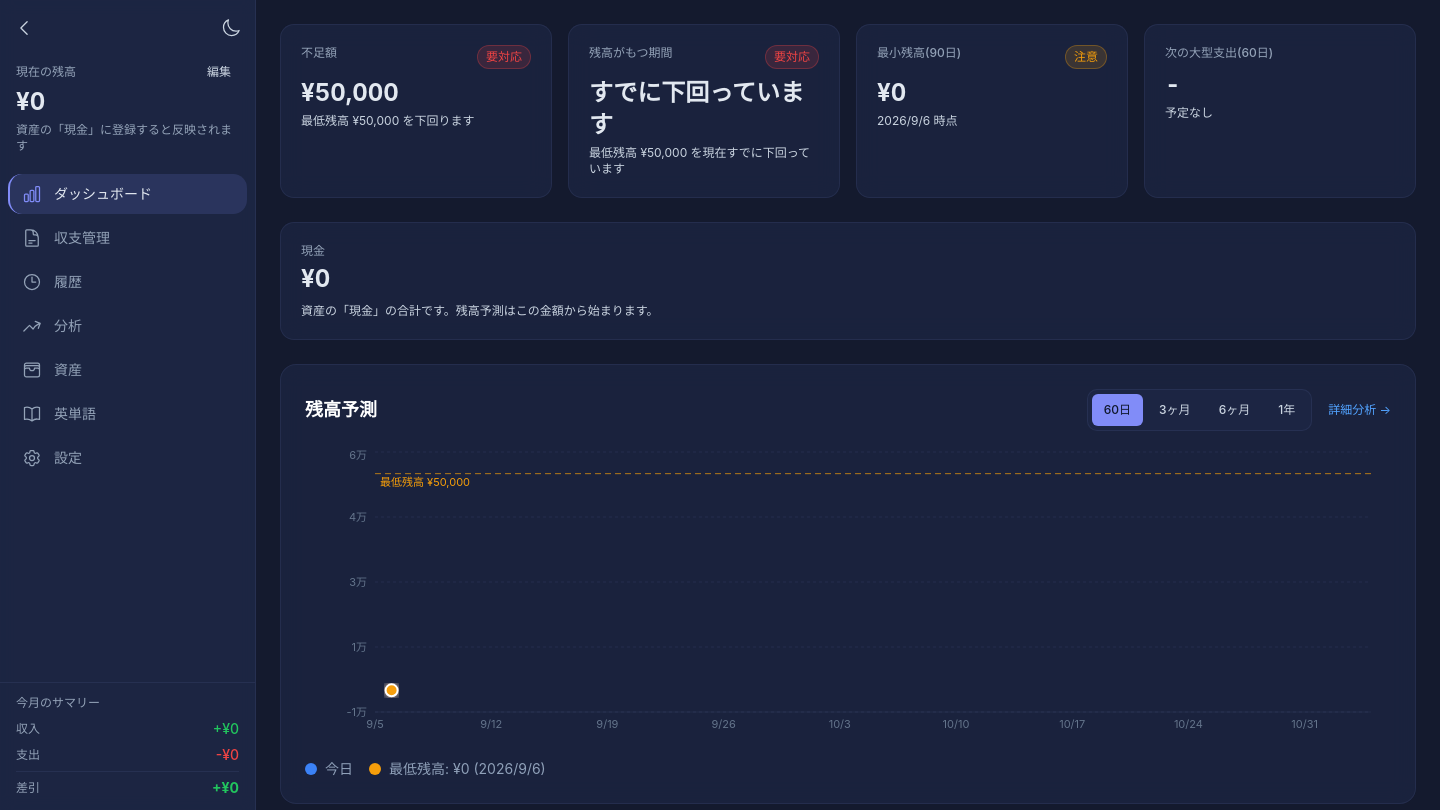
Test case: a screen whose chunk cannot be fetched › is cleared by opening a different screen
What coordinates should you click on to do the following:
click the link "英単語"
I would click on:
 (59, 414)
Its box is [22, 404, 96, 424].
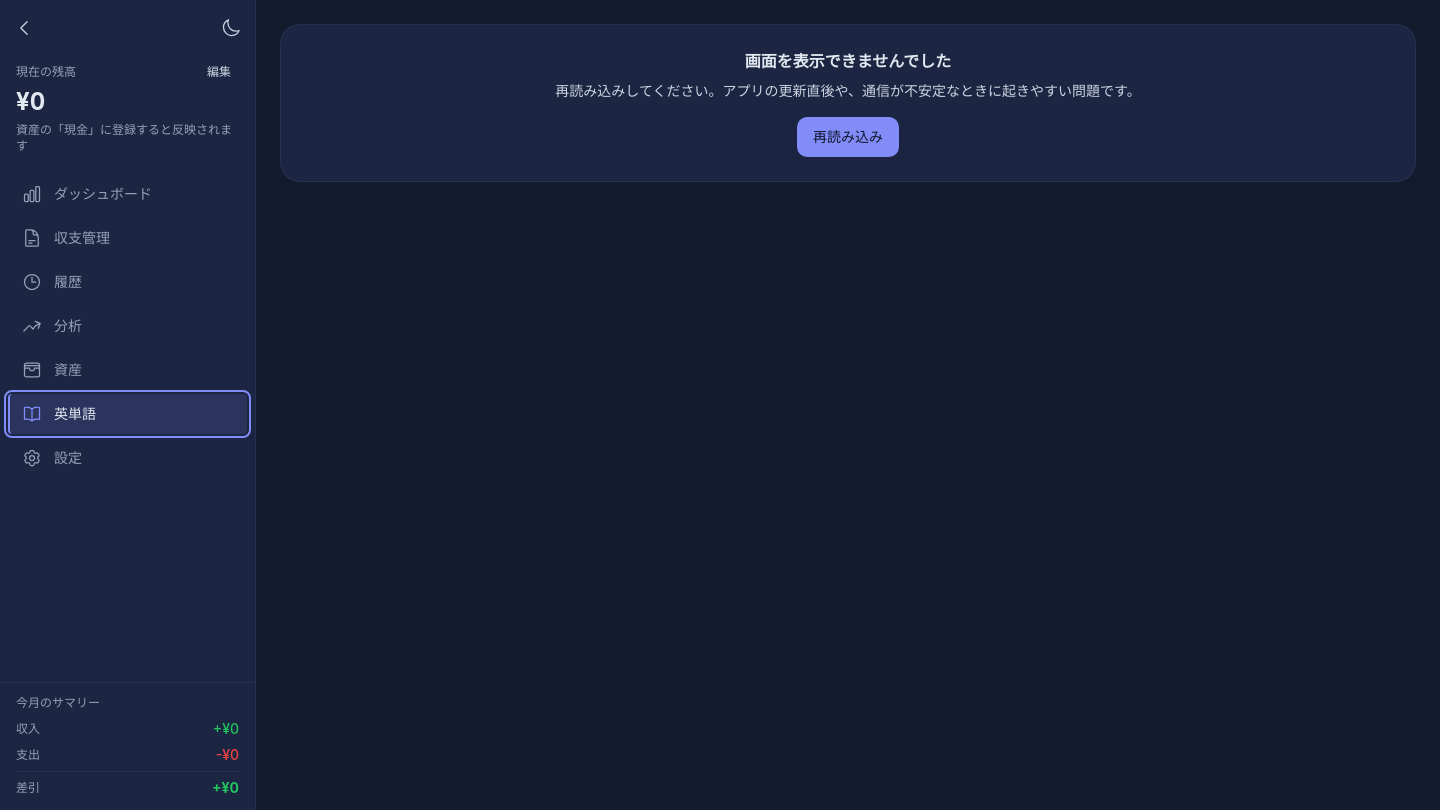
Check: the message "画面を表示できませんでした 再読み込みしてください。アプリの更新直後や、通信が不安定なときに起きやすい問題です。 再読み込み" is shown, box [280, 24, 1416, 182]
What coordinates should you click on to do the following:
click the link "分析"
I would click on:
 (52, 326)
Its box is [22, 316, 82, 336].
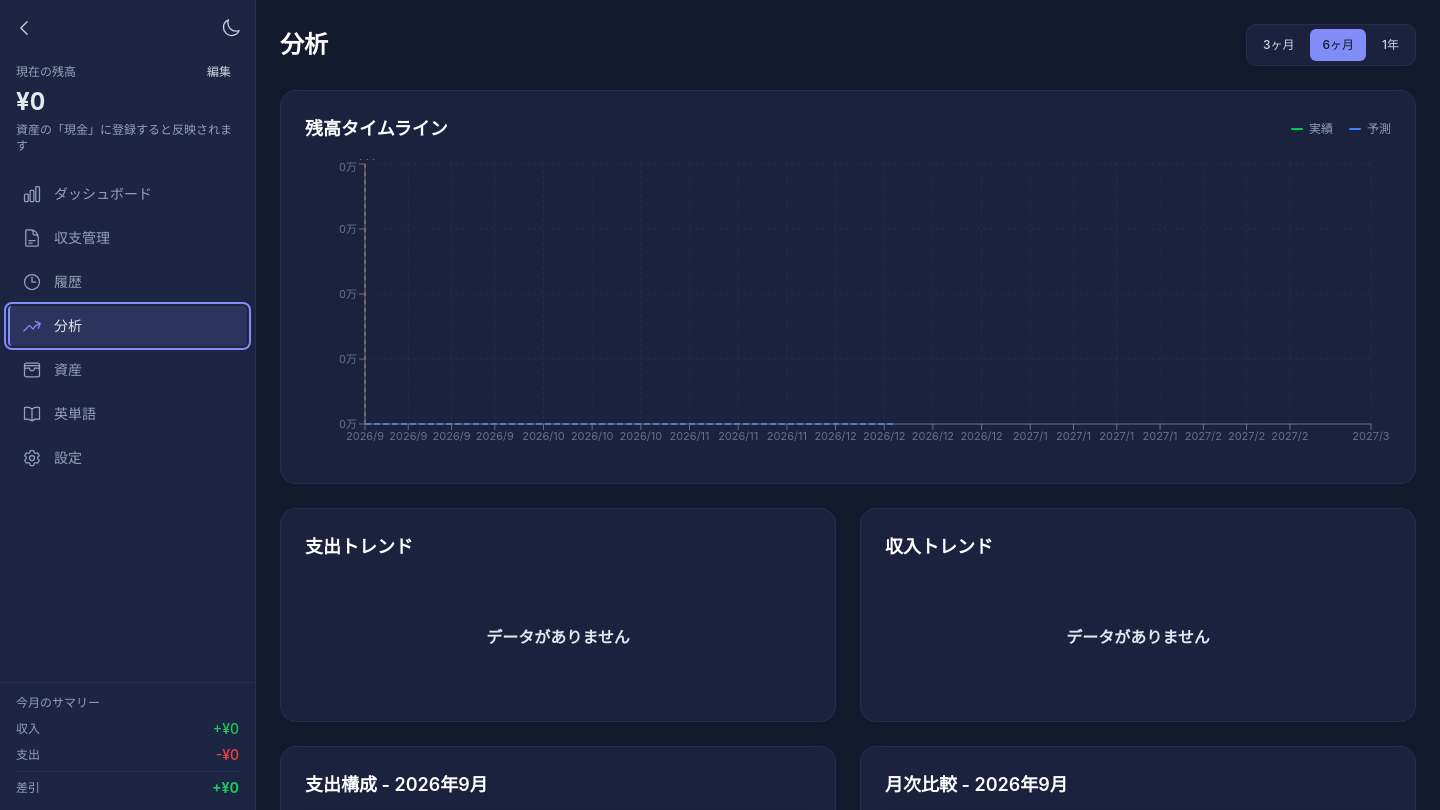
Check: the heading "分析" is shown, box [280, 29, 328, 61]
Check: the message "画面を表示できませんでした 再読み込みしてください。アプリの更新直後や、通信が不安定なときに起きやすい問題です。 再読み込み" is gone
